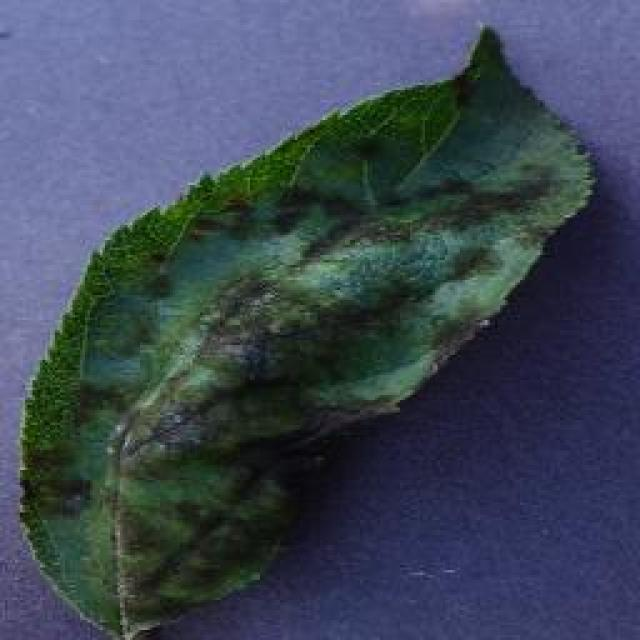apple scab disease: (12, 20, 598, 638)
